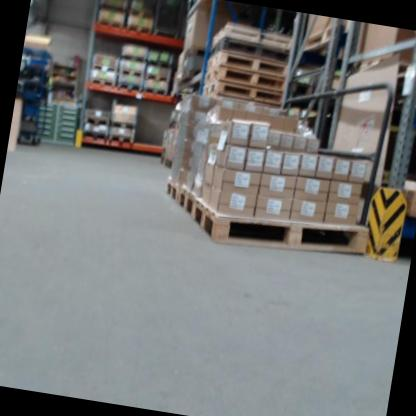pallet: (188, 197, 370, 267), (212, 62, 289, 93), (218, 32, 293, 62), (211, 81, 286, 106), (215, 50, 290, 73), (221, 25, 295, 43), (300, 22, 339, 55), (175, 188, 196, 216), (127, 8, 155, 21), (163, 179, 180, 200), (99, 3, 127, 15), (91, 62, 119, 74), (96, 18, 125, 29), (125, 24, 152, 35), (118, 67, 145, 78), (116, 81, 143, 92), (89, 76, 116, 87), (147, 59, 173, 70), (144, 72, 170, 83), (107, 134, 135, 144), (120, 53, 147, 63), (109, 120, 135, 130), (82, 130, 108, 140), (84, 116, 109, 126), (142, 86, 168, 95)
